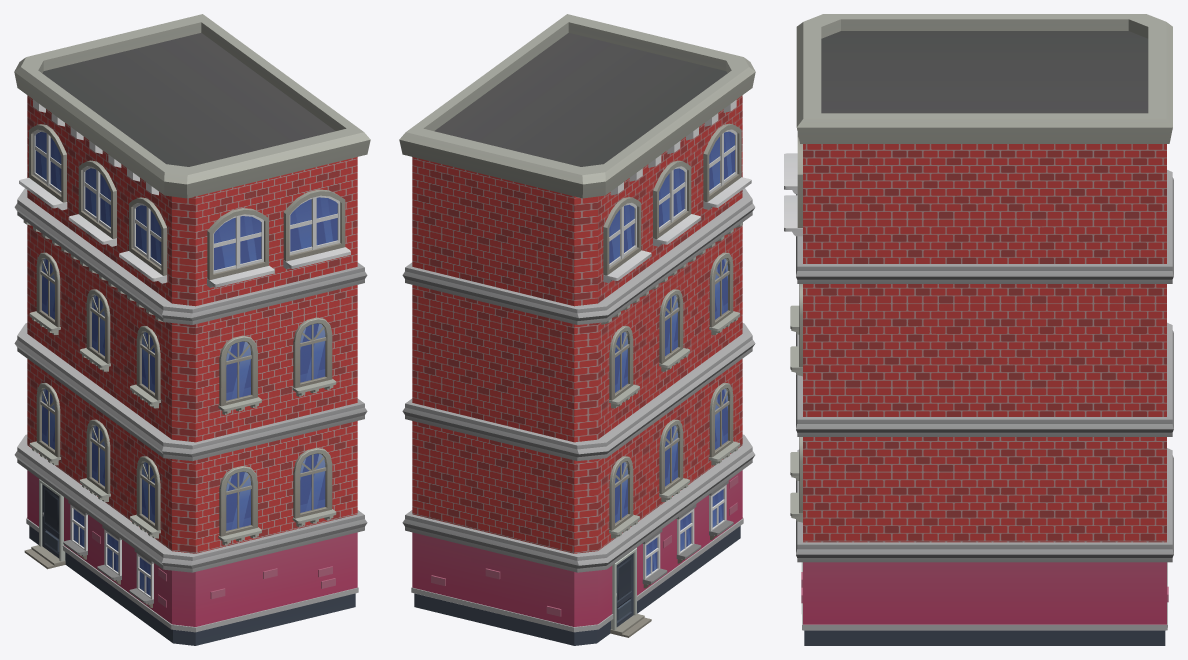
The model's file is Building_18_2_O.fbx.
3 renders of one model, left to right at view 1: azimuth 30°, elevation 25°; view 2: azimuth 150°, elevation 25°; view 3: azimuth 270°, elevation 25°, orthographic. The views are drawn at different scales.
Parts seen in each view (by area): view 1: Building_18_2_O; view 2: Building_18_2_O; view 3: Building_18_2_O.
Boxes of the visible parts, x1,y1,x2,y2 form: Building_18_2_O: [14, 14, 370, 645]; Building_18_2_O: [399, 14, 755, 645]; Building_18_2_O: [784, 14, 1173, 645].
Size of the model in its own units: 719 by 1594 by 1059.
